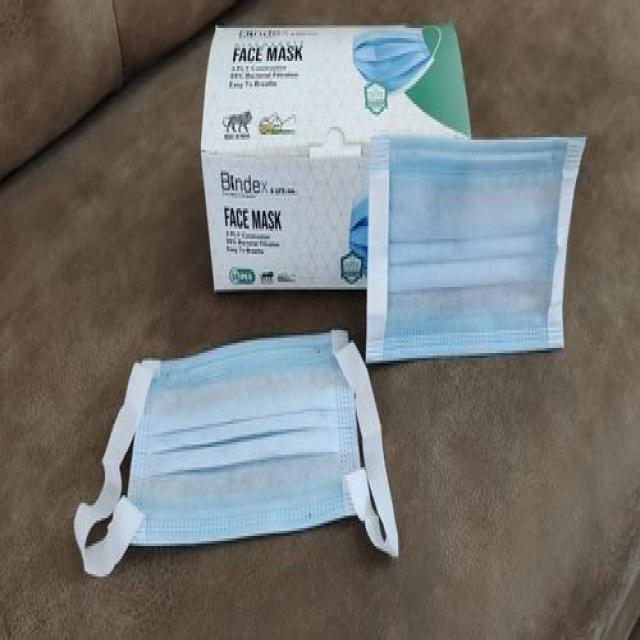face mask: (83, 336, 400, 568), (367, 134, 589, 366)
